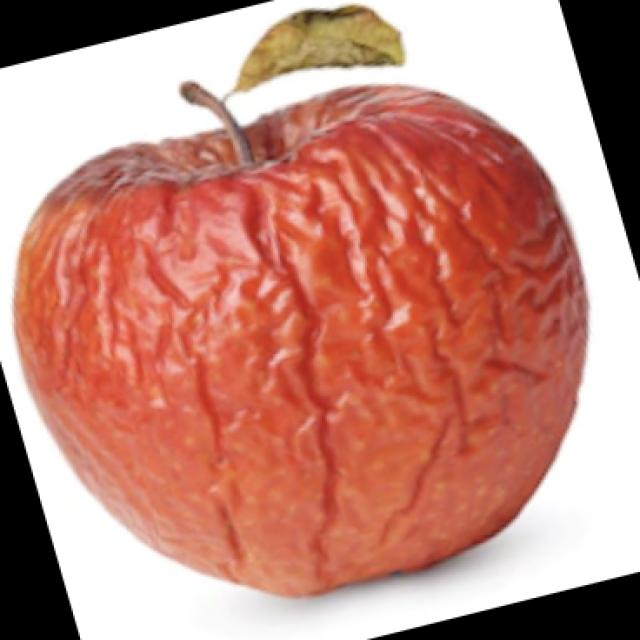apple: (16, 86, 586, 593)
